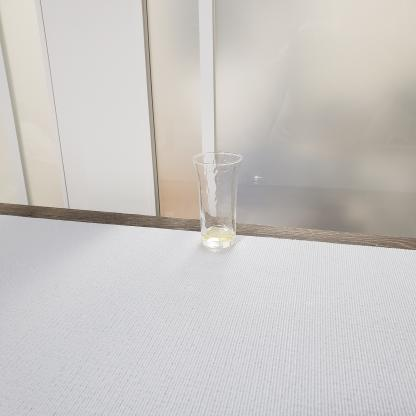glass: (189, 148, 250, 254)
